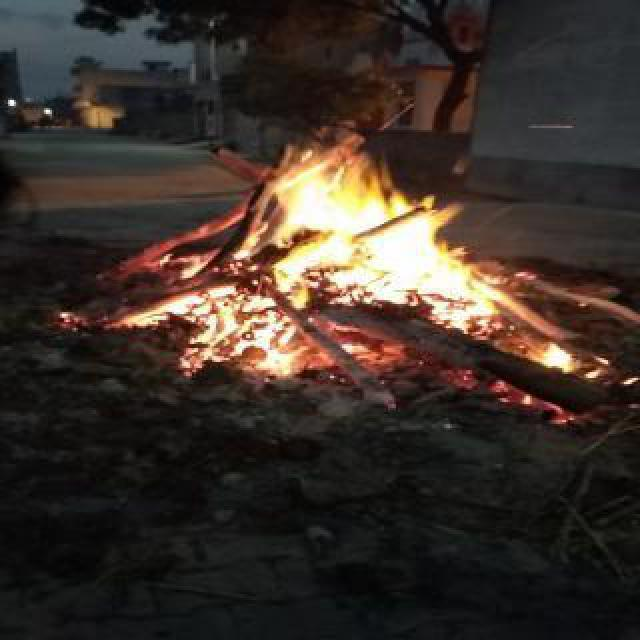Fire: (120, 118, 528, 366)
